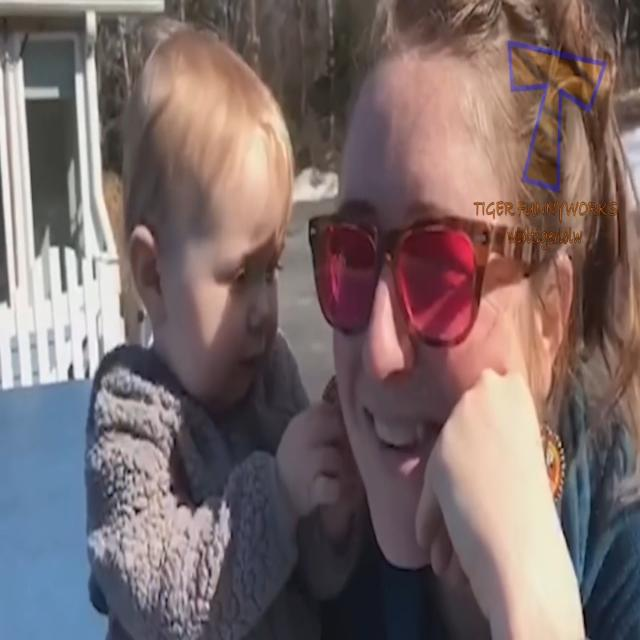safe: (103, 30, 309, 635)
